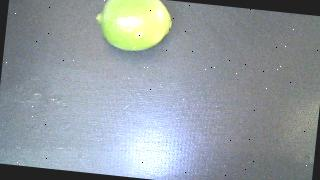EXPORTACION: (92, 0, 173, 55)
